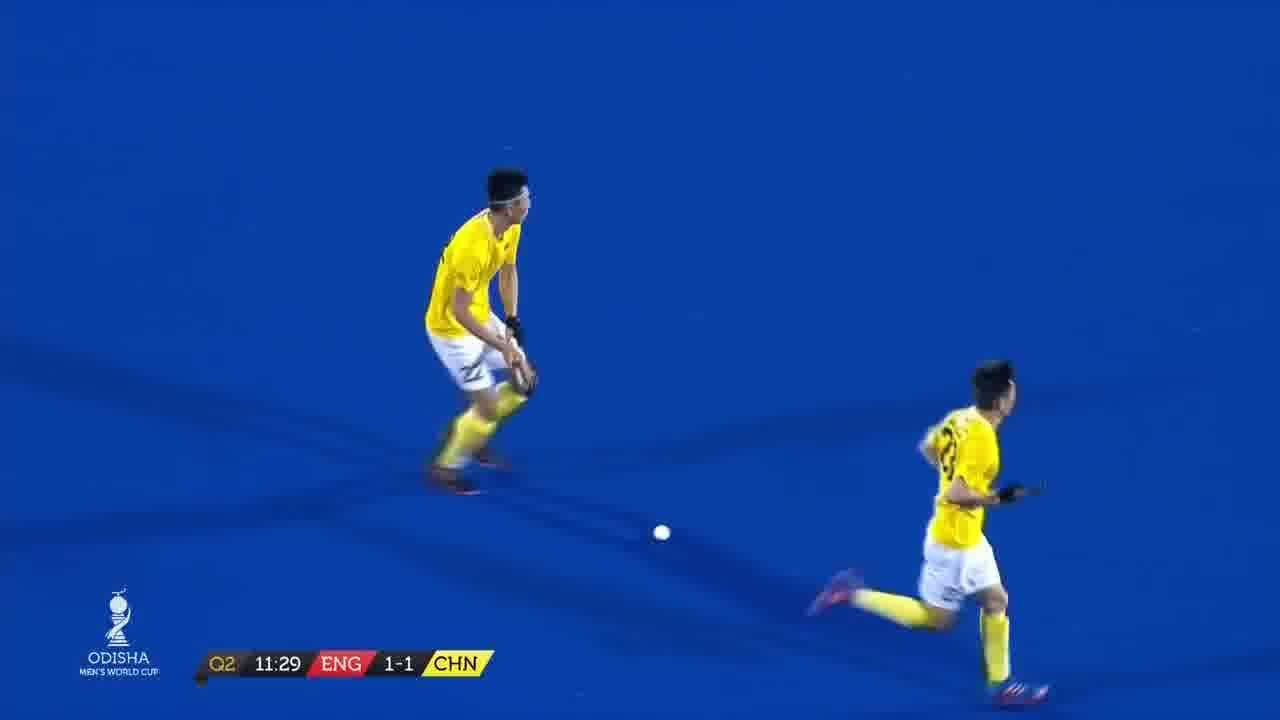ball: (650, 522, 674, 544)
